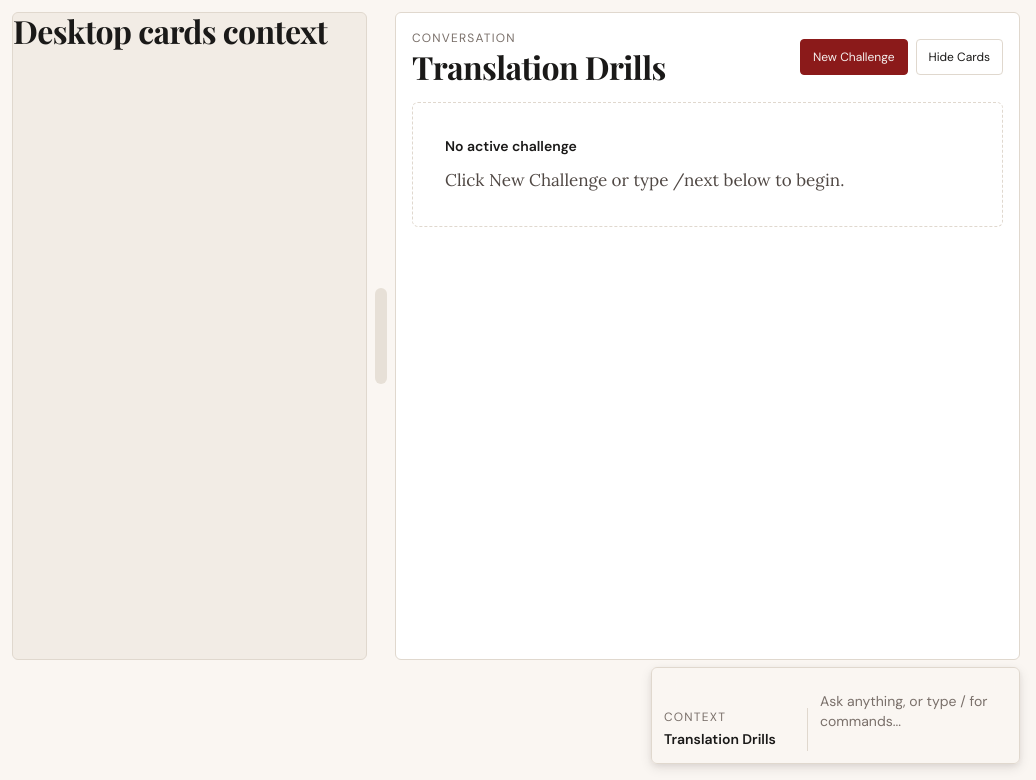
Test case: CommandBar component behavior › collapses the Translation Drills context pane on desktop for active recall
Expected: the heading "Desktop cards context" is shown, [13,13,366,50]
Click the button with aria-label "Collapse cards view".
click(959, 57)  # box [916,39,1003,75]
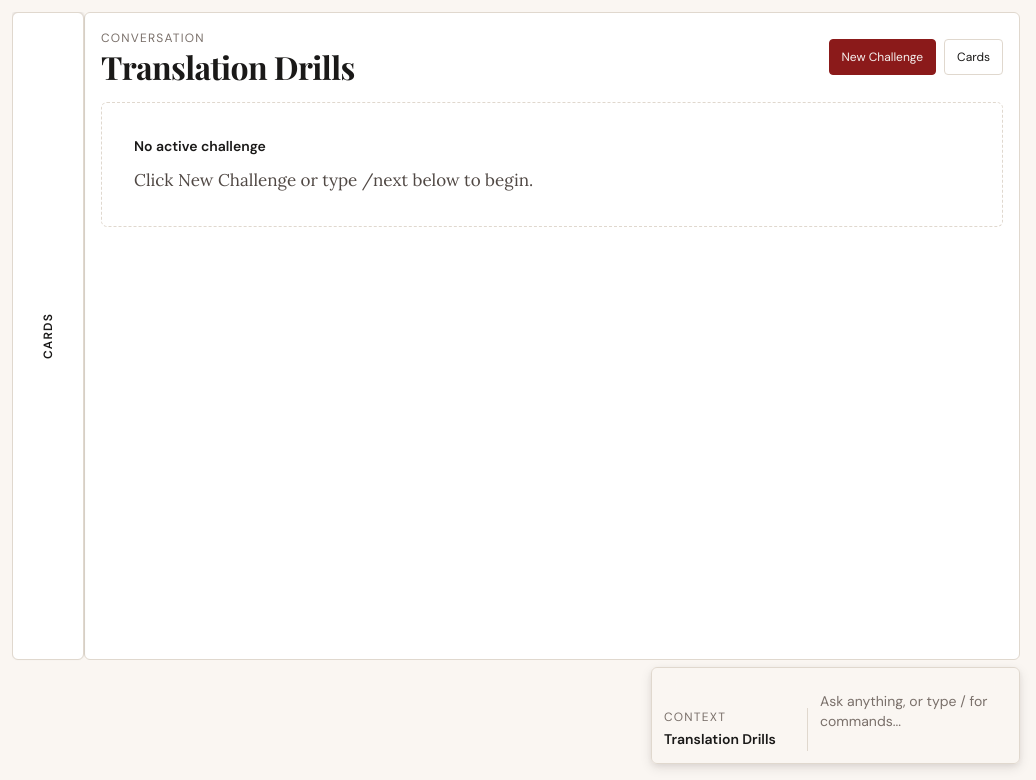
Now the heading "Desktop cards context" is gone
Click the button with aria-label "Open cards view".
click(48, 336)  # box [12,12,84,660]
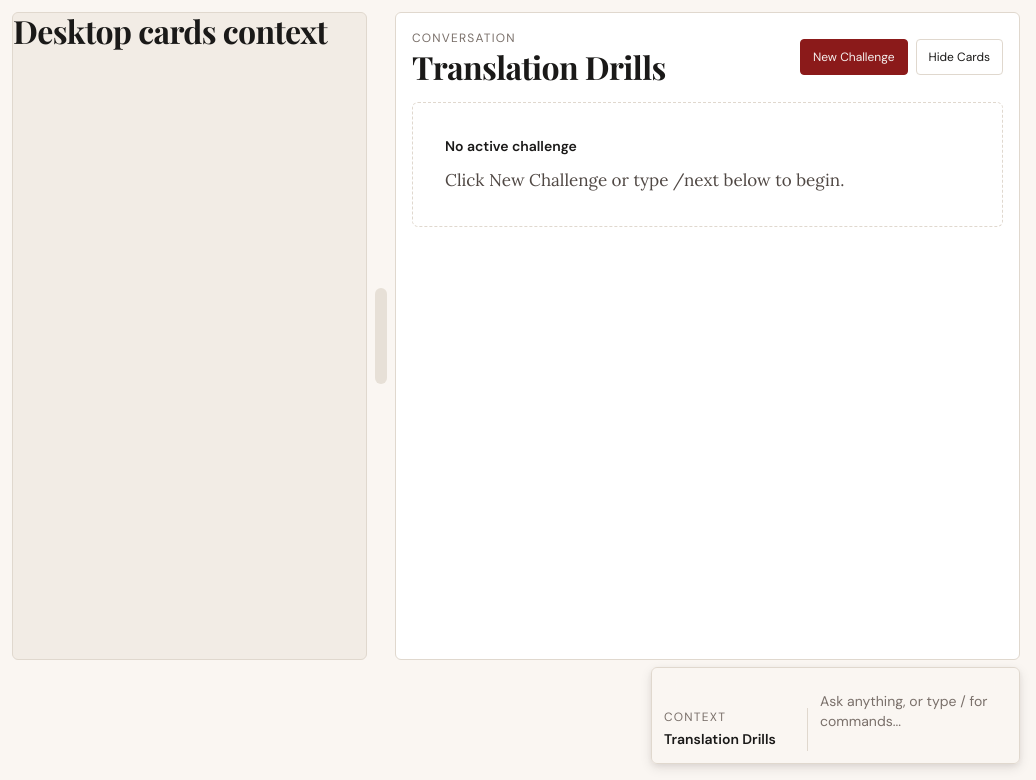
Now the heading "Desktop cards context" is shown, box [13,13,366,50]
